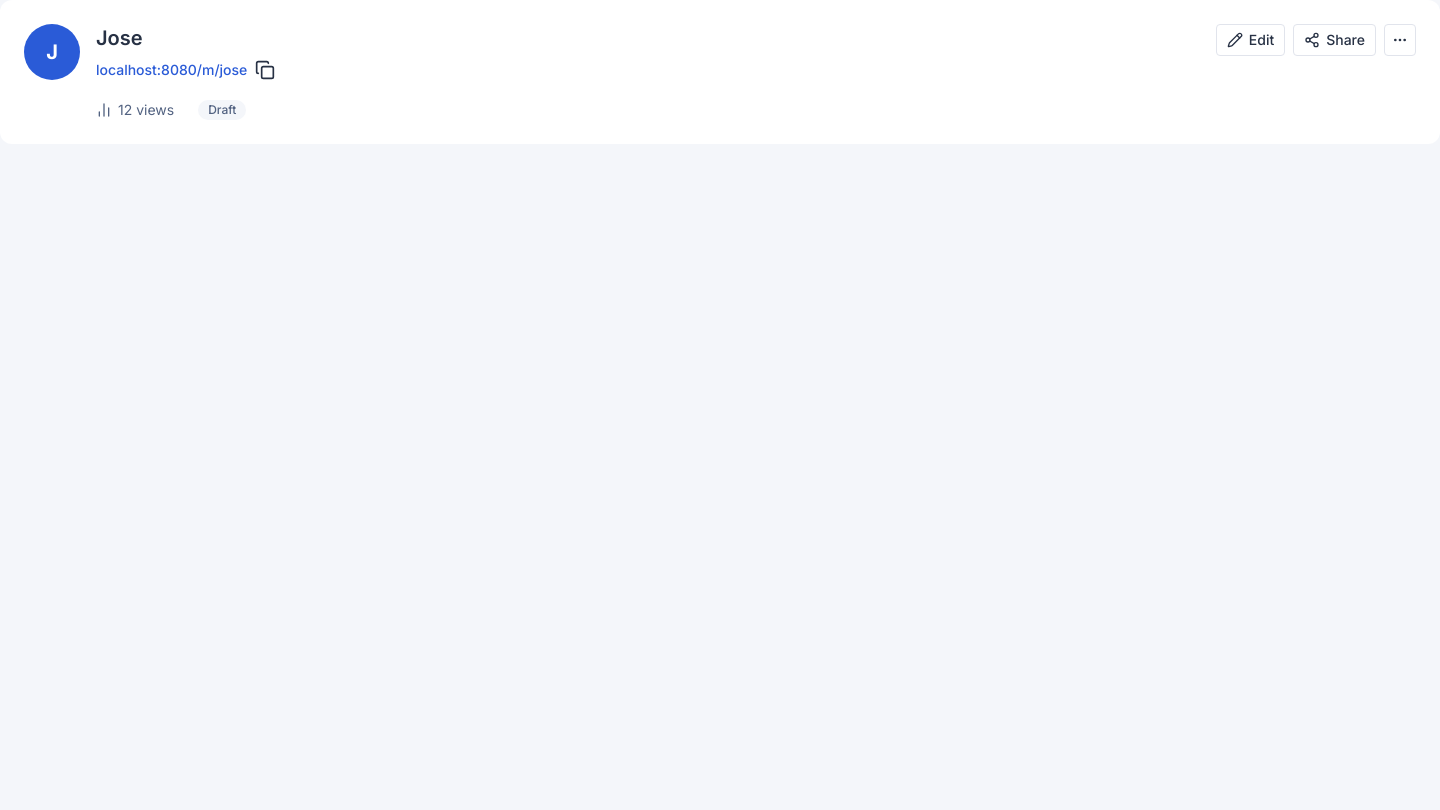
Test: PageCard › Share opens the share dialog with the page URL
The width and height of the screenshot is (1440, 810).
What coordinates should you click on to do the following:
click the button "Share"
I would click on:
 (1335, 40)
Its box is [1293,24,1376,56].
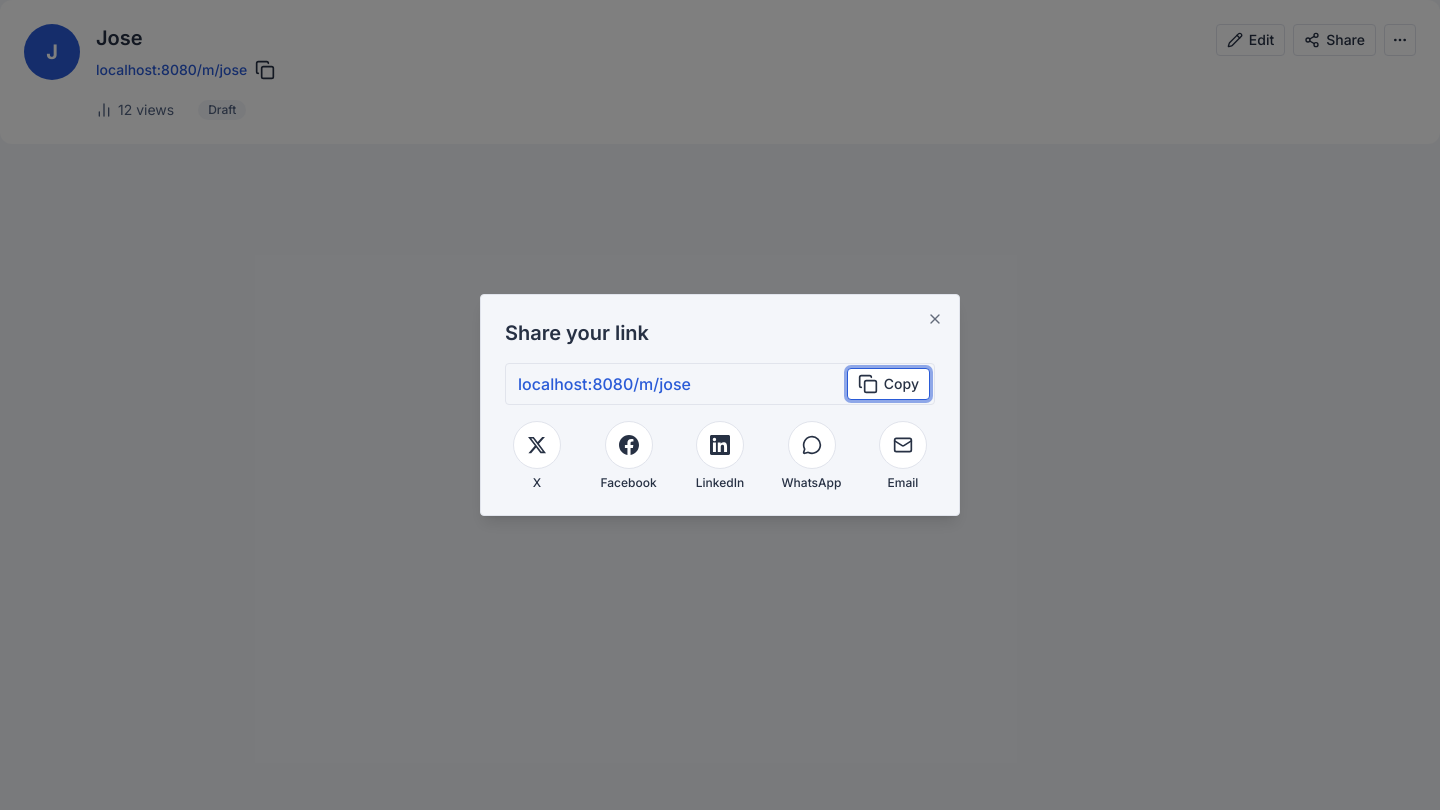
Expected: the text "localhost:8080/m/jose" is shown, [518,374,691,394]
